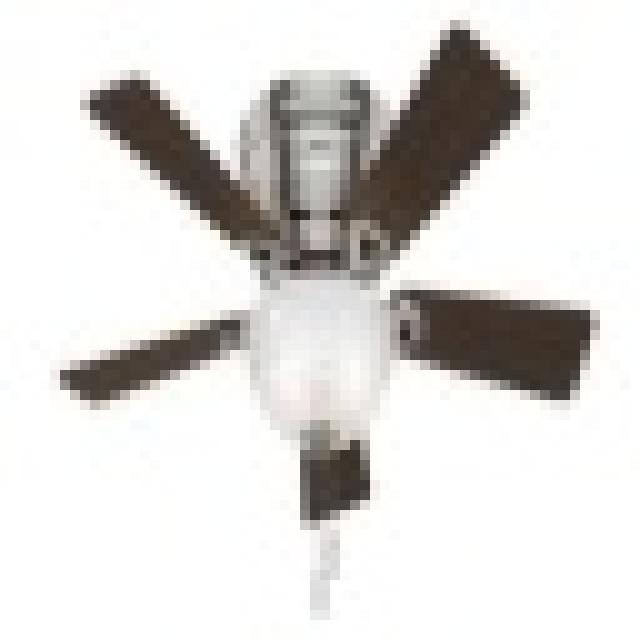Bulb: (31, 56, 640, 556)
